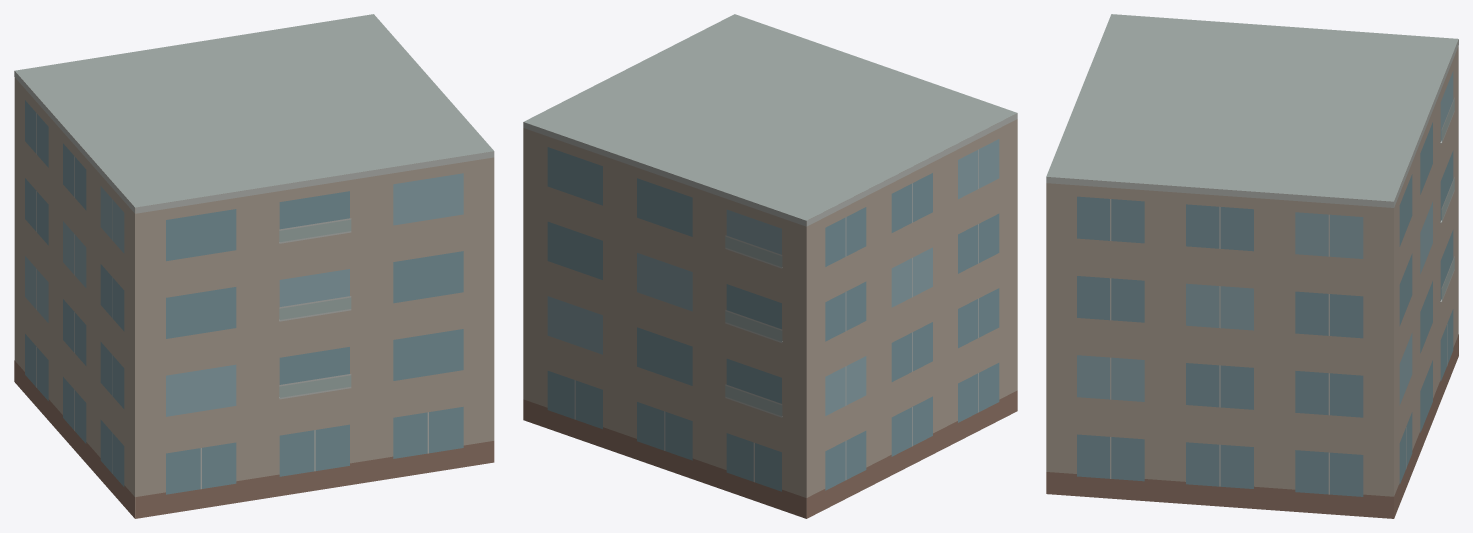
Rendered from residential-921bde65-75c9-485b-a5b7-33c546713e5c.glb.
3 views of the same model, side by side, from view 1: azimuth 30°, elevation 25°; view 2: azimuth 150°, elevation 25°; view 3: azimuth 270°, elevation 25° (orthographic). The views are drawn at different scales.
Parts seen in each view (by area): view 1: residential-921bde65-75c9-485b-a5b7-33c546713e5c.tmp; view 2: residential-921bde65-75c9-485b-a5b7-33c546713e5c.tmp; view 3: residential-921bde65-75c9-485b-a5b7-33c546713e5c.tmp.
Boxes of the visible parts, x1,y1,x2,y2 form: residential-921bde65-75c9-485b-a5b7-33c546713e5c.tmp: (14,14,494,518); residential-921bde65-75c9-485b-a5b7-33c546713e5c.tmp: (523,14,1017,518); residential-921bde65-75c9-485b-a5b7-33c546713e5c.tmp: (1046,14,1458,518).
Bounding box in the file's own units: 15.49 × 12.2 × 14.39.
